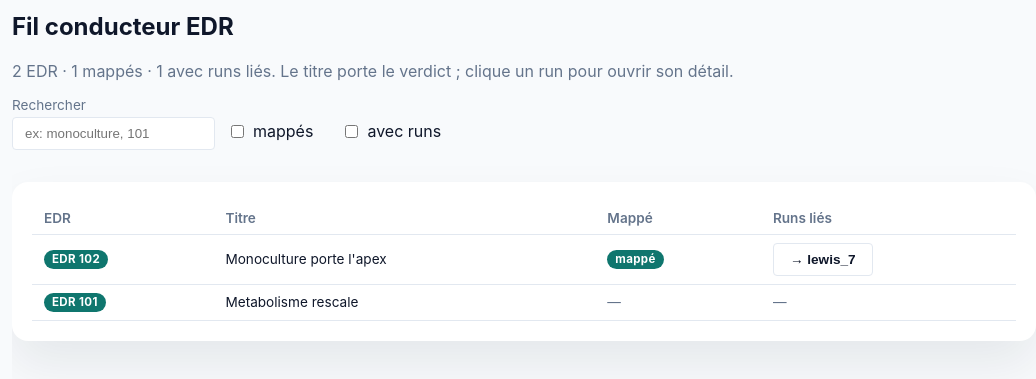
Test: la recherche filtre les lignes
expect the text "Monoculture porte l'apex" is shown: met, box [213,234,595,284]
Type "metabolisme" into the field labelled "Rechercher" at (114, 133), box [12,117,215,150]
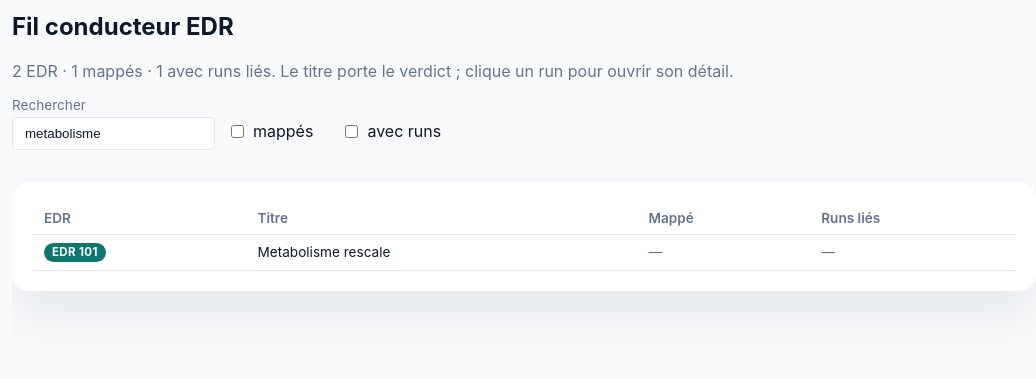
expect the text "Metabolisme rescale" is shown: met, box [246,234,636,270]
expect the text "Monoculture porte l'apex" is gone: met
